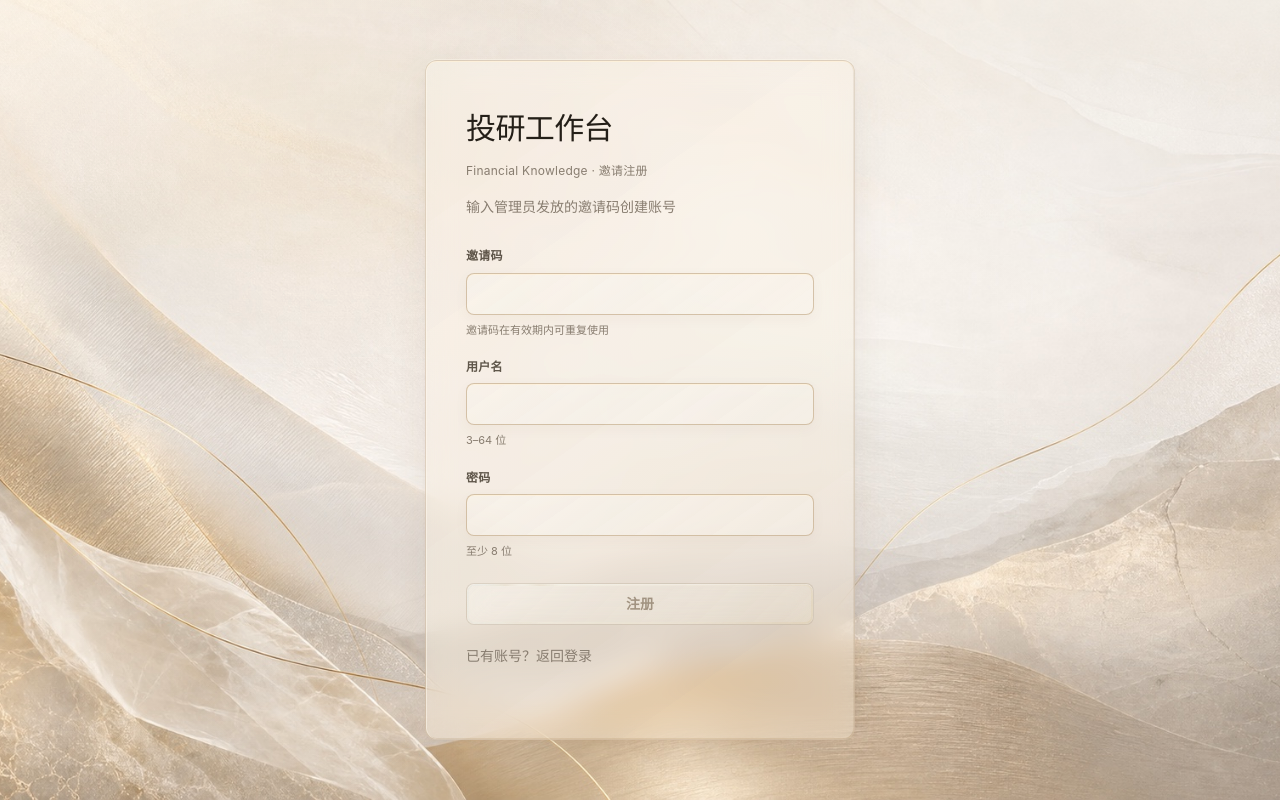
注册页可返回登录页
The image size is (1280, 800).
Click the link "返回登录" at (564, 655), box [536,647,592,664]
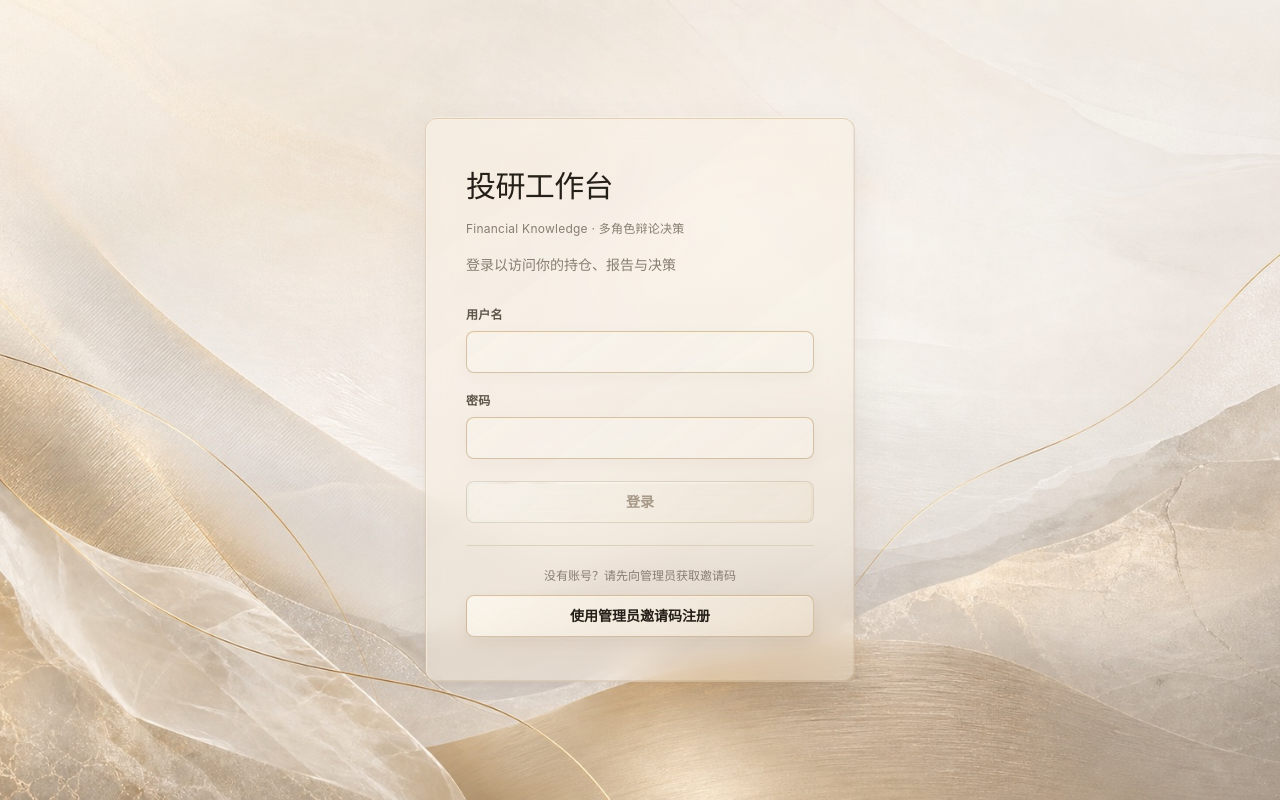
Check: the text "登录以访问你的持仓、报告与决策" is shown, box [466,256,676,273]
Check: the field labelled "用户名" is shown, box [466,331,814,373]
